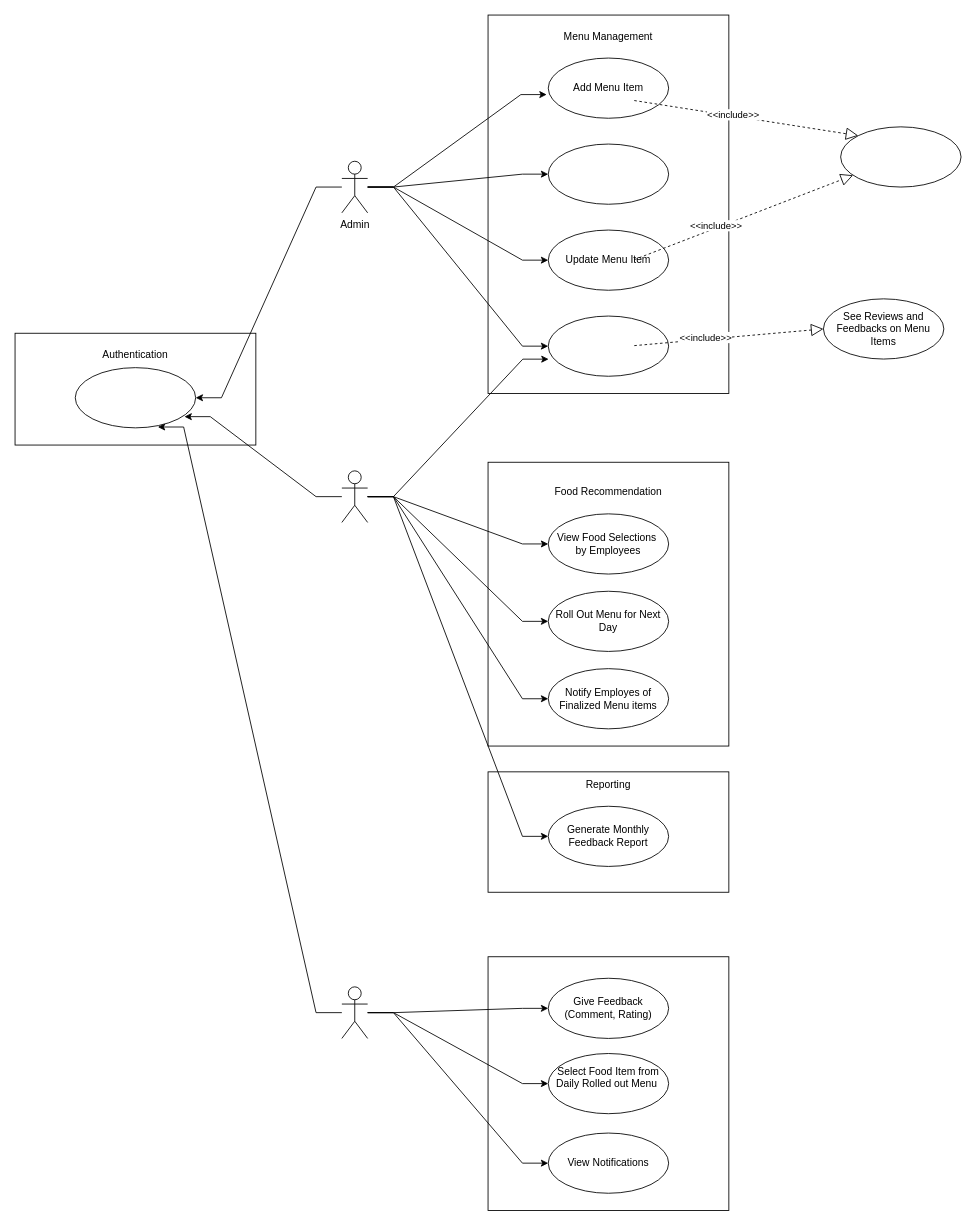
Image size: 976x1226. Some labels were removed from this diagram. Each missing label, with the centre of its shape:
Chef: point 354,496
Delete Menu Item: point 608,173
Employee: point 354,1012
Login: point 135,397
Send Notification: point 900,156
View Menu Item: point 608,345
